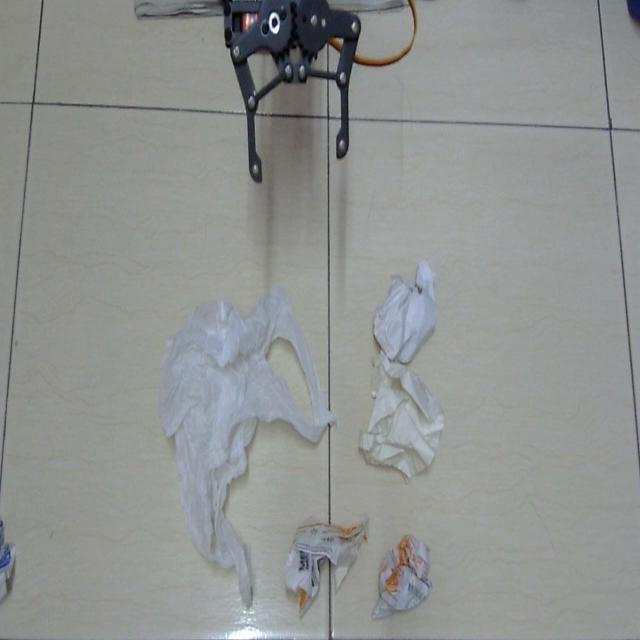Paperrotation: (358, 362, 450, 495), (281, 502, 375, 615), (363, 260, 442, 358), (378, 522, 437, 630)
Plastic-laydown_0-rotation: (143, 284, 331, 598)
